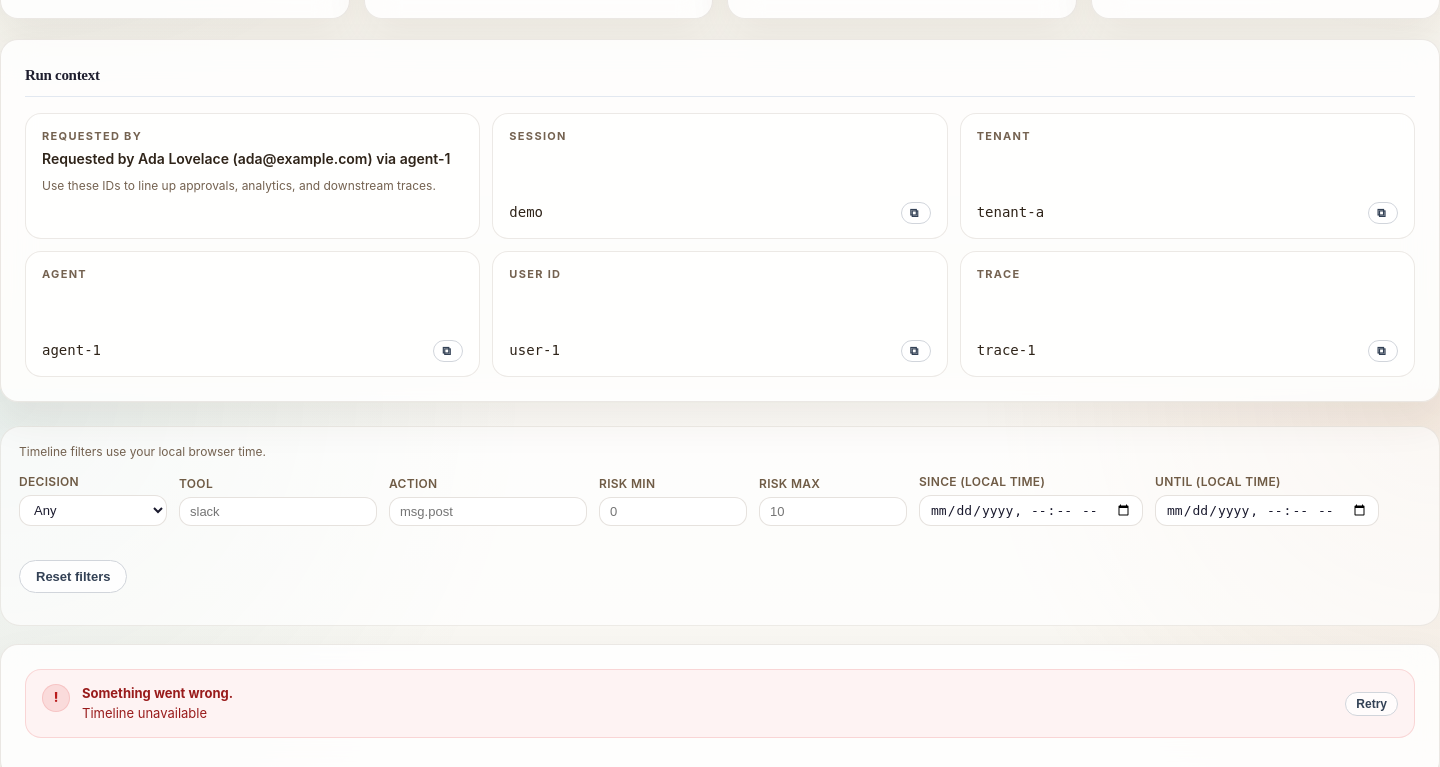
Test: Session detail page › keeps the session summary visible when the timeline load fails and retries the session fetch
(page scrolled)
Check: the text "Timeline unavailable" is shown, box [82,705,207,721]
Check: the text "Requested by Ada Lovelace (ada@example.com) via agent-1" is shown, box [42,149,463,169]
Click the button "Retry". click: [1372, 704]
box: [1345,692,1398,716]
(page scrolled)
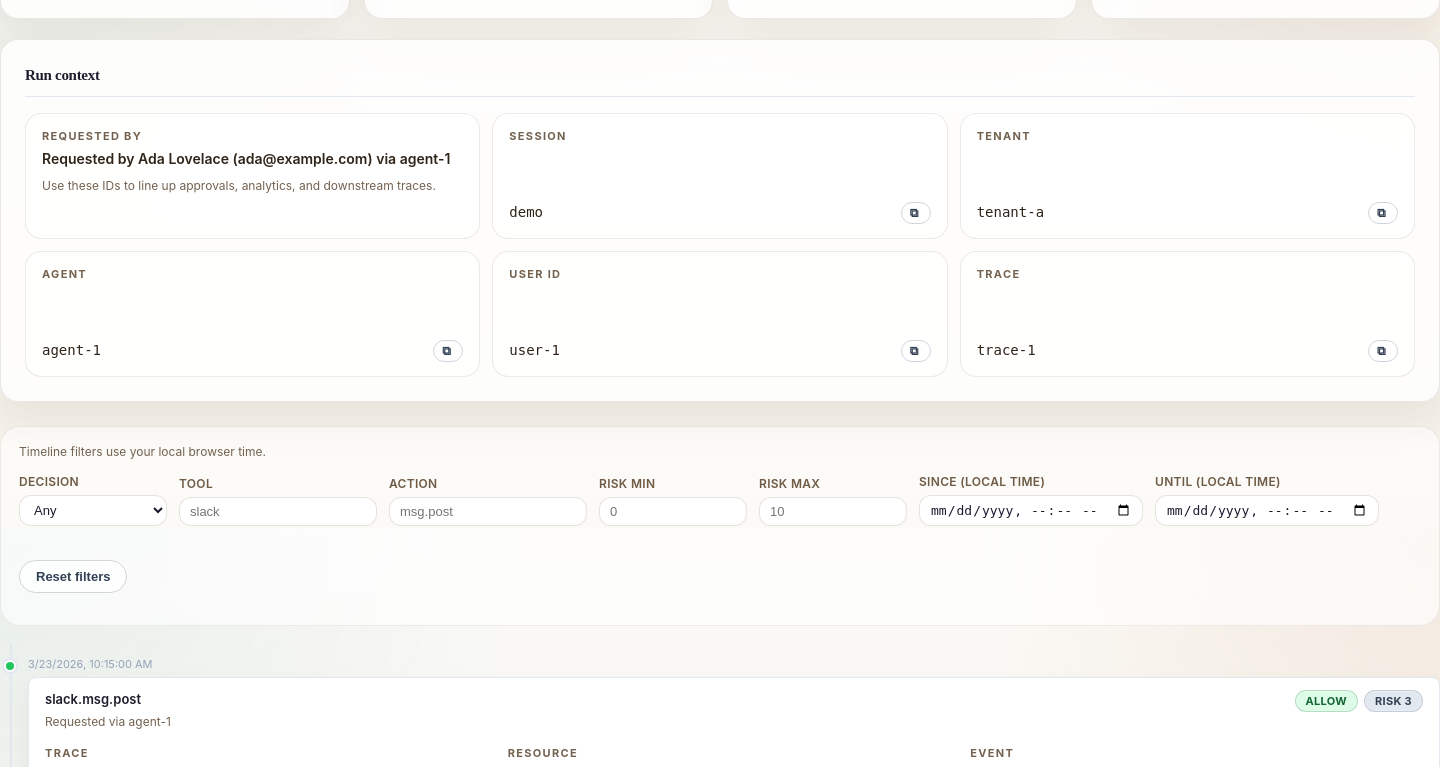
Check: the text "slack.msg.post" is shown, box [45,691,141,707]
Check: the text "Timeline unavailable" is not shown
